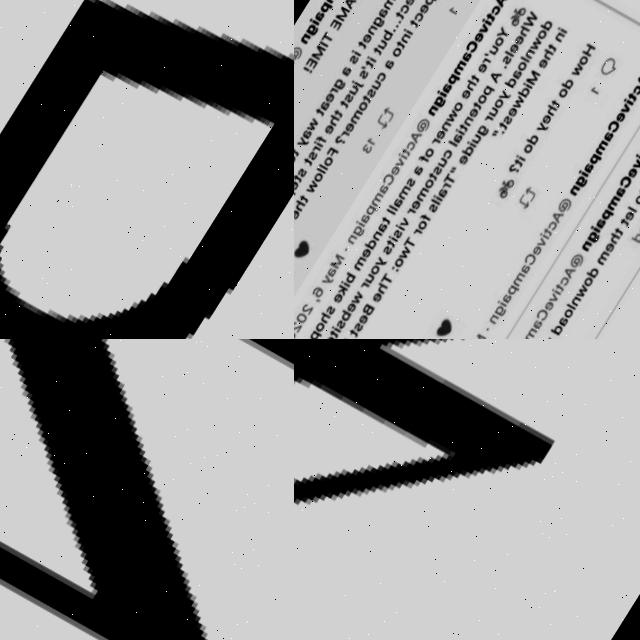2: (310, 288, 323, 302)
A: (548, 218, 564, 234), (492, 0, 507, 16), (561, 274, 576, 290), (488, 76, 502, 92), (458, 57, 472, 72), (341, 0, 355, 15), (408, 135, 422, 150), (339, 68, 352, 82), (358, 216, 371, 230), (382, 62, 394, 77), (582, 170, 594, 185), (499, 300, 512, 313), (312, 13, 324, 27), (440, 87, 452, 101), (376, 187, 388, 201), (325, 269, 337, 283), (450, 138, 462, 152), (594, 227, 606, 241), (376, 12, 388, 25), (318, 102, 330, 115), (300, 131, 312, 144), (411, 170, 423, 183), (391, 201, 403, 214), (376, 226, 388, 239), (510, 76, 522, 89), (601, 140, 613, 153), (518, 271, 530, 284), (614, 195, 626, 208), (530, 326, 542, 339), (437, 193, 448, 205), (557, 325, 568, 337), (634, 82, 640, 98), (637, 234, 640, 247)
B: (360, 307, 374, 322), (342, 274, 354, 289), (380, 34, 392, 48), (338, 313, 350, 326)
C: (463, 46, 478, 62), (380, 176, 394, 193), (534, 315, 548, 332), (606, 128, 620, 144), (522, 260, 536, 275), (618, 185, 632, 200), (398, 8, 410, 21), (374, 76, 386, 89), (489, 11, 501, 24), (440, 154, 452, 167), (412, 17, 423, 29), (546, 229, 557, 241), (558, 285, 569, 297), (630, 94, 640, 107), (404, 146, 415, 157)
D: (524, 140, 538, 155), (560, 86, 574, 100), (539, 27, 552, 41), (503, 83, 516, 97), (585, 275, 598, 289), (460, 151, 473, 165), (363, 242, 376, 255), (516, 94, 529, 107), (629, 241, 640, 255), (549, 331, 562, 339)
E: (328, 21, 341, 35), (388, 169, 401, 182), (359, 251, 372, 264), (322, 94, 334, 108), (343, 124, 355, 138), (476, 68, 488, 82), (459, 94, 471, 108), (331, 295, 343, 309), (536, 65, 548, 79), (506, 113, 518, 127), (530, 252, 542, 266), (602, 251, 614, 265), (360, 36, 372, 49), (403, 0, 415, 13), (322, 126, 334, 139), (417, 8, 429, 21), (472, 38, 484, 51), (434, 134, 446, 147), (513, 41, 525, 54), (507, 50, 519, 63), (466, 114, 478, 127), (409, 204, 421, 217), (457, 160, 469, 173), (539, 122, 551, 135), (614, 121, 626, 134), (626, 177, 638, 190), (622, 221, 634, 234), (304, 60, 316, 73), (542, 309, 554, 321), (345, 306, 356, 318), (371, 296, 382, 308), (357, 318, 368, 330), (294, 181, 299, 195), (294, 211, 299, 223)
F: (324, 150, 338, 163), (314, 137, 326, 148), (419, 218, 430, 229), (417, 160, 428, 170)
G: (584, 239, 600, 256), (370, 19, 386, 34), (304, 25, 318, 40), (332, 81, 346, 96), (432, 100, 446, 115), (475, 130, 489, 145), (574, 183, 588, 198), (493, 312, 506, 325), (352, 228, 364, 242), (348, 0, 362, 5)
H: (580, 51, 594, 68), (374, 286, 388, 300), (462, 85, 476, 98), (516, 33, 530, 46), (316, 315, 329, 328), (543, 113, 556, 126), (540, 57, 552, 70), (326, 118, 338, 130), (607, 243, 619, 255), (294, 201, 304, 215)
I: (622, 106, 634, 117), (576, 179, 588, 189), (538, 239, 549, 249), (589, 234, 600, 244), (550, 296, 561, 306), (308, 20, 320, 29), (496, 306, 506, 316), (480, 25, 491, 34), (350, 53, 360, 62), (366, 59, 376, 68), (313, 143, 323, 152), (402, 33, 412, 42), (436, 96, 446, 105), (397, 157, 407, 166), (354, 224, 364, 233), (339, 283, 349, 292), (394, 228, 404, 237), (388, 240, 398, 249), (330, 329, 340, 338), (432, 200, 442, 209), (556, 35, 566, 44), (522, 89, 532, 98), (514, 162, 524, 171), (318, 43, 327, 52), (454, 135, 464, 143), (466, 147, 476, 155), (634, 163, 640, 172)
J: (351, 82, 364, 94)
K: (334, 288, 347, 301)
L: (386, 209, 396, 218), (384, 212, 394, 221), (504, 57, 514, 66), (447, 145, 457, 154), (519, 63, 529, 72), (430, 203, 440, 212), (626, 215, 636, 224), (564, 311, 574, 320), (317, 166, 327, 175), (315, 170, 325, 178)
M: (450, 66, 466, 84), (592, 148, 608, 166), (309, 48, 325, 65), (524, 78, 540, 95), (334, 9, 349, 26), (328, 257, 343, 274), (369, 196, 383, 213), (415, 191, 429, 208), (511, 280, 525, 297), (606, 205, 620, 222), (596, 260, 610, 277), (348, 113, 362, 129), (396, 190, 410, 206), (352, 260, 366, 276), (381, 0, 395, 15), (324, 0, 338, 8), (523, 334, 537, 339)
N: (0, 339, 294, 640), (438, 126, 451, 139), (298, 35, 310, 49), (426, 110, 438, 124), (366, 28, 378, 41), (462, 121, 474, 134), (523, 56, 535, 69), (552, 40, 564, 53), (568, 193, 580, 206), (580, 249, 592, 262), (398, 38, 409, 50), (371, 235, 382, 247), (346, 237, 356, 249), (488, 321, 498, 332), (570, 305, 580, 316)
O: (422, 182, 434, 196), (356, 104, 368, 117), (422, 152, 434, 165), (313, 324, 325, 337), (476, 100, 488, 113), (516, 68, 528, 81), (392, 261, 404, 274), (556, 96, 568, 109), (582, 285, 594, 298), (562, 316, 574, 329), (492, 42, 504, 55), (576, 64, 588, 76), (391, 52, 402, 64), (312, 175, 323, 187), (368, 269, 379, 281), (536, 37, 547, 49), (492, 105, 503, 117), (416, 226, 427, 238), (322, 159, 332, 171), (452, 107, 462, 119), (522, 151, 532, 163), (633, 204, 640, 217)
P: (318, 4, 332, 19), (446, 78, 460, 93), (587, 162, 601, 177), (599, 218, 613, 233), (481, 91, 494, 105), (505, 292, 518, 305), (364, 209, 376, 223), (422, 0, 435, 12), (308, 331, 321, 339), (408, 0, 421, 5)
R: (328, 90, 338, 100), (480, 64, 490, 74), (430, 143, 440, 153), (311, 148, 320, 158), (483, 122, 492, 132), (340, 133, 349, 143), (406, 213, 415, 222), (442, 188, 451, 197), (412, 234, 422, 242), (360, 286, 369, 294)
S: (306, 153, 318, 165), (334, 322, 346, 334), (347, 58, 358, 70), (357, 73, 368, 85), (365, 92, 376, 104), (500, 62, 511, 74), (431, 171, 442, 183), (427, 209, 438, 221), (342, 97, 353, 108), (296, 170, 307, 181), (381, 250, 392, 261), (352, 326, 363, 337), (501, 123, 512, 134), (324, 308, 334, 320), (405, 182, 415, 193), (392, 234, 402, 245), (428, 0, 439, 4)
T: (402, 241, 416, 257), (442, 179, 456, 194), (378, 277, 392, 292), (320, 34, 333, 48), (379, 218, 391, 230), (540, 235, 552, 247), (484, 19, 496, 30), (549, 107, 560, 118), (626, 102, 637, 113), (553, 292, 564, 303), (314, 110, 324, 121), (332, 112, 342, 123), (298, 196, 308, 207), (400, 152, 410, 163), (468, 80, 479, 90), (546, 52, 556, 63), (356, 44, 366, 54), (394, 16, 404, 26), (364, 64, 374, 74), (338, 103, 348, 113), (302, 160, 312, 170), (408, 24, 418, 34), (394, 45, 404, 55), (472, 108, 482, 118), (428, 177, 438, 187), (385, 244, 395, 254), (498, 128, 508, 138), (512, 166, 522, 176), (618, 228, 628, 238), (612, 237, 622, 247), (372, 51, 382, 60), (360, 99, 370, 108), (458, 130, 468, 139), (328, 332, 339, 339), (347, 332, 358, 339), (294, 176, 301, 186), (294, 149, 299, 160), (637, 158, 640, 169), (638, 198, 640, 208)
U: (376, 44, 387, 56), (436, 163, 447, 175), (470, 140, 481, 152), (348, 89, 358, 101), (370, 84, 380, 96), (488, 51, 498, 63), (364, 277, 374, 289), (488, 113, 498, 125)
V: (394, 161, 406, 175), (619, 112, 631, 126), (477, 30, 489, 43), (398, 222, 409, 234), (547, 302, 558, 314), (630, 169, 640, 182), (536, 246, 546, 258)
W: (294, 339, 640, 640), (521, 18, 538, 38), (444, 115, 458, 131), (511, 103, 525, 119), (570, 71, 584, 87), (528, 45, 542, 60), (305, 183, 318, 198), (350, 295, 363, 310), (398, 251, 411, 266), (575, 294, 588, 309), (306, 120, 318, 135)
Y: (496, 32, 510, 49), (534, 129, 548, 144), (374, 261, 388, 274), (320, 278, 333, 291), (296, 139, 308, 153), (498, 98, 510, 110)
